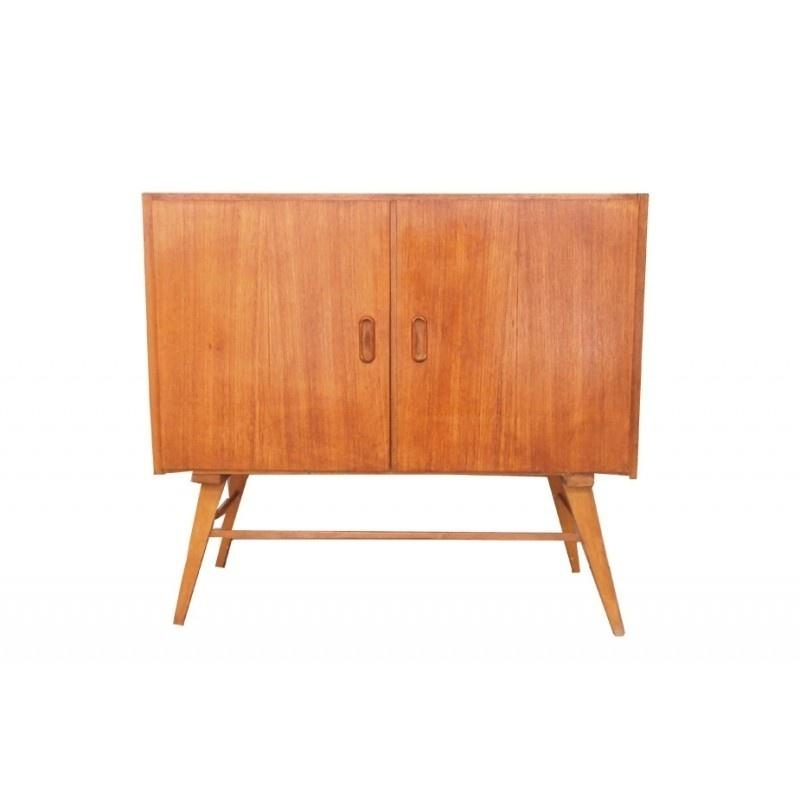cabinet_door: (399, 204, 639, 468), (162, 205, 393, 469)
handle: (407, 316, 431, 367), (356, 313, 378, 366)
